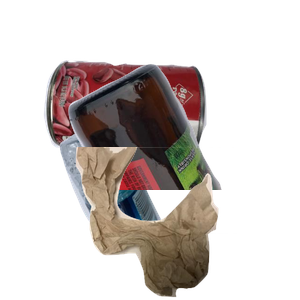glass: (66, 61, 300, 241)
metal: (41, 58, 240, 207)
plastic: (57, 120, 284, 300)
trash: (73, 147, 300, 300)
